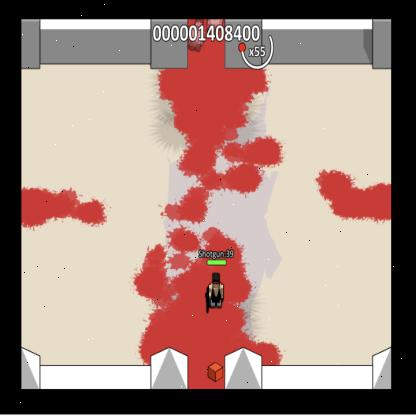agent: (206, 272, 224, 308)
